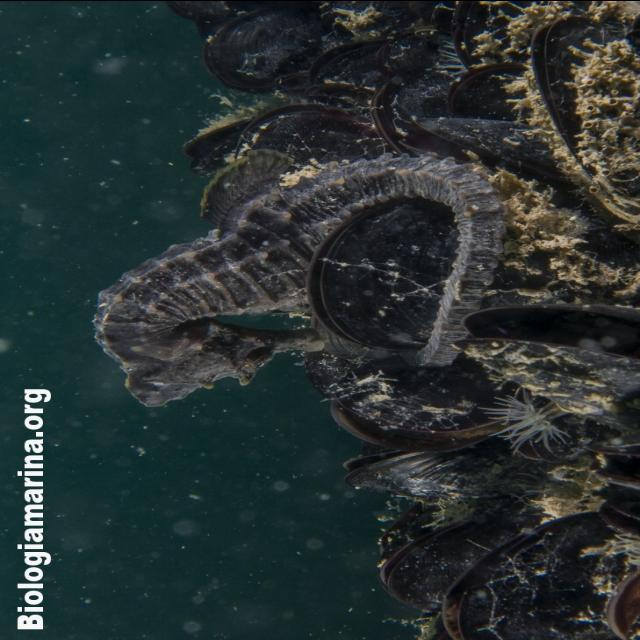Hippo: (90, 308, 328, 417)
